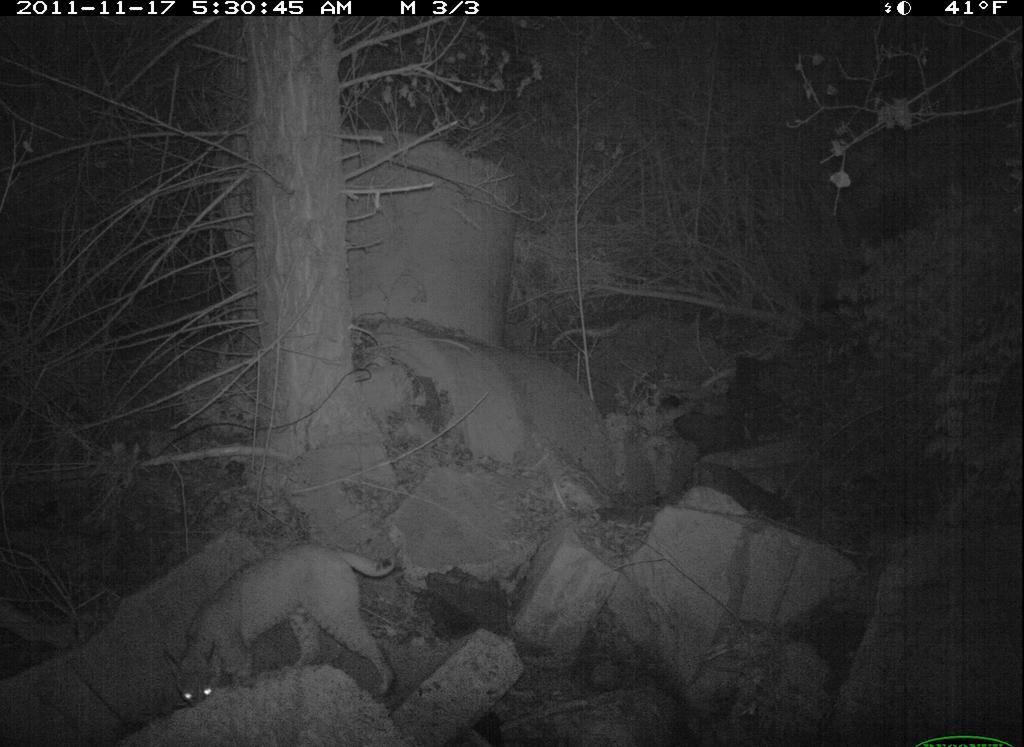bobcat: (158, 541, 423, 722)
